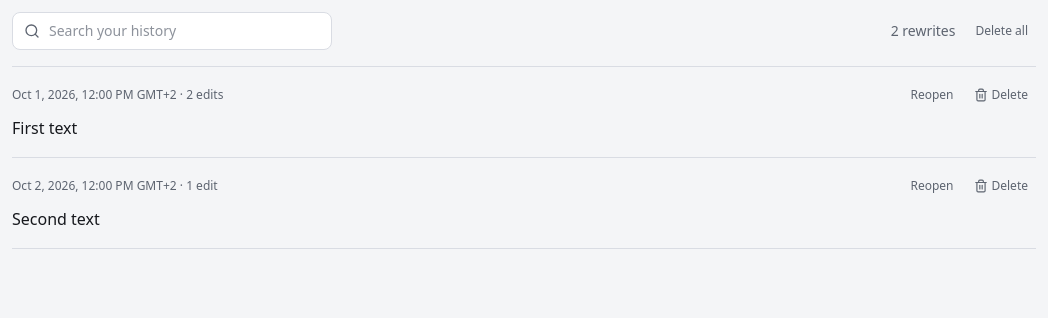
Test: HistoryList › when a delete fails › asks for the page again after a 401 on one entry
Click the button "Delete" in the row of "2 edits".
click(1001, 95)  # box [966, 83, 1036, 107]
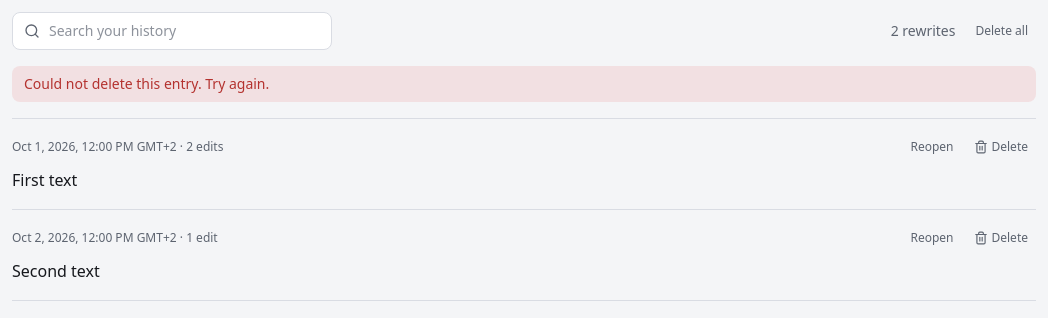
Expected: the message "Could not delete this entry. Try again." is shown, [12, 66, 1036, 102]
